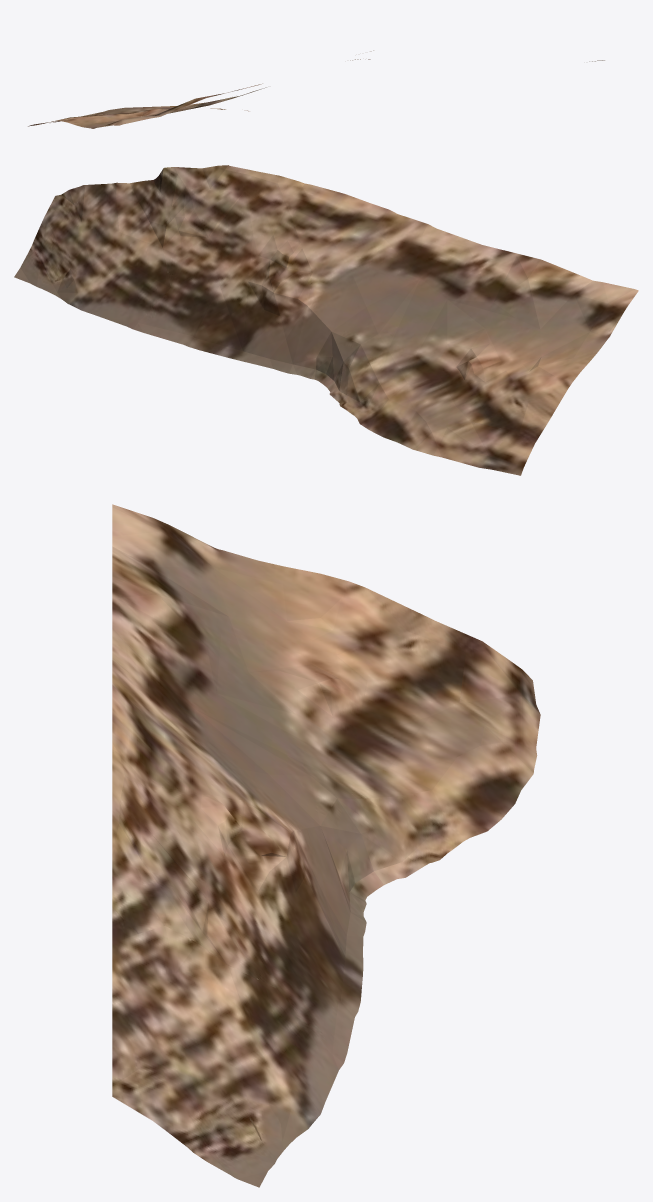
3 renders of one model, top to bottom at view 1: azimuth 30°, elevation 25°; view 2: azimuth 150°, elevation 25°; view 3: azimuth 270°, elevation 25°, orthographic. The views are drawn at different scales.
Bounding box in the file's own units: 1.04 × 0.2156 × 0.3727.
Materials: 1 (1 with a texture image).
